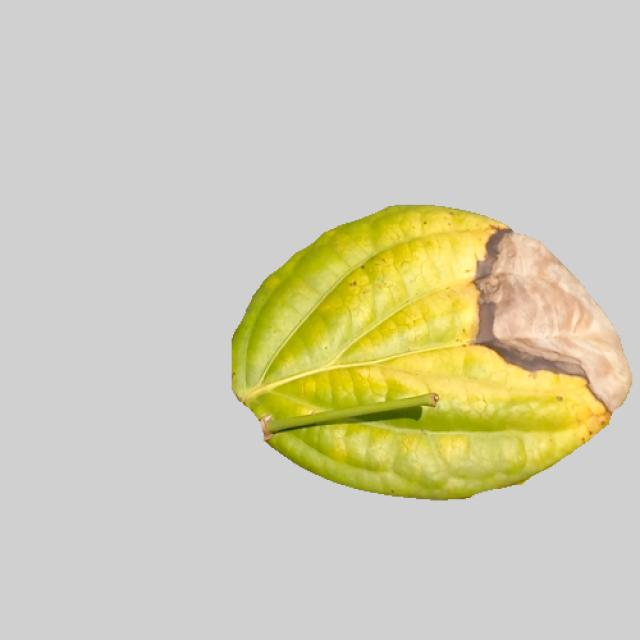leaf-blight: (215, 206, 636, 503)
